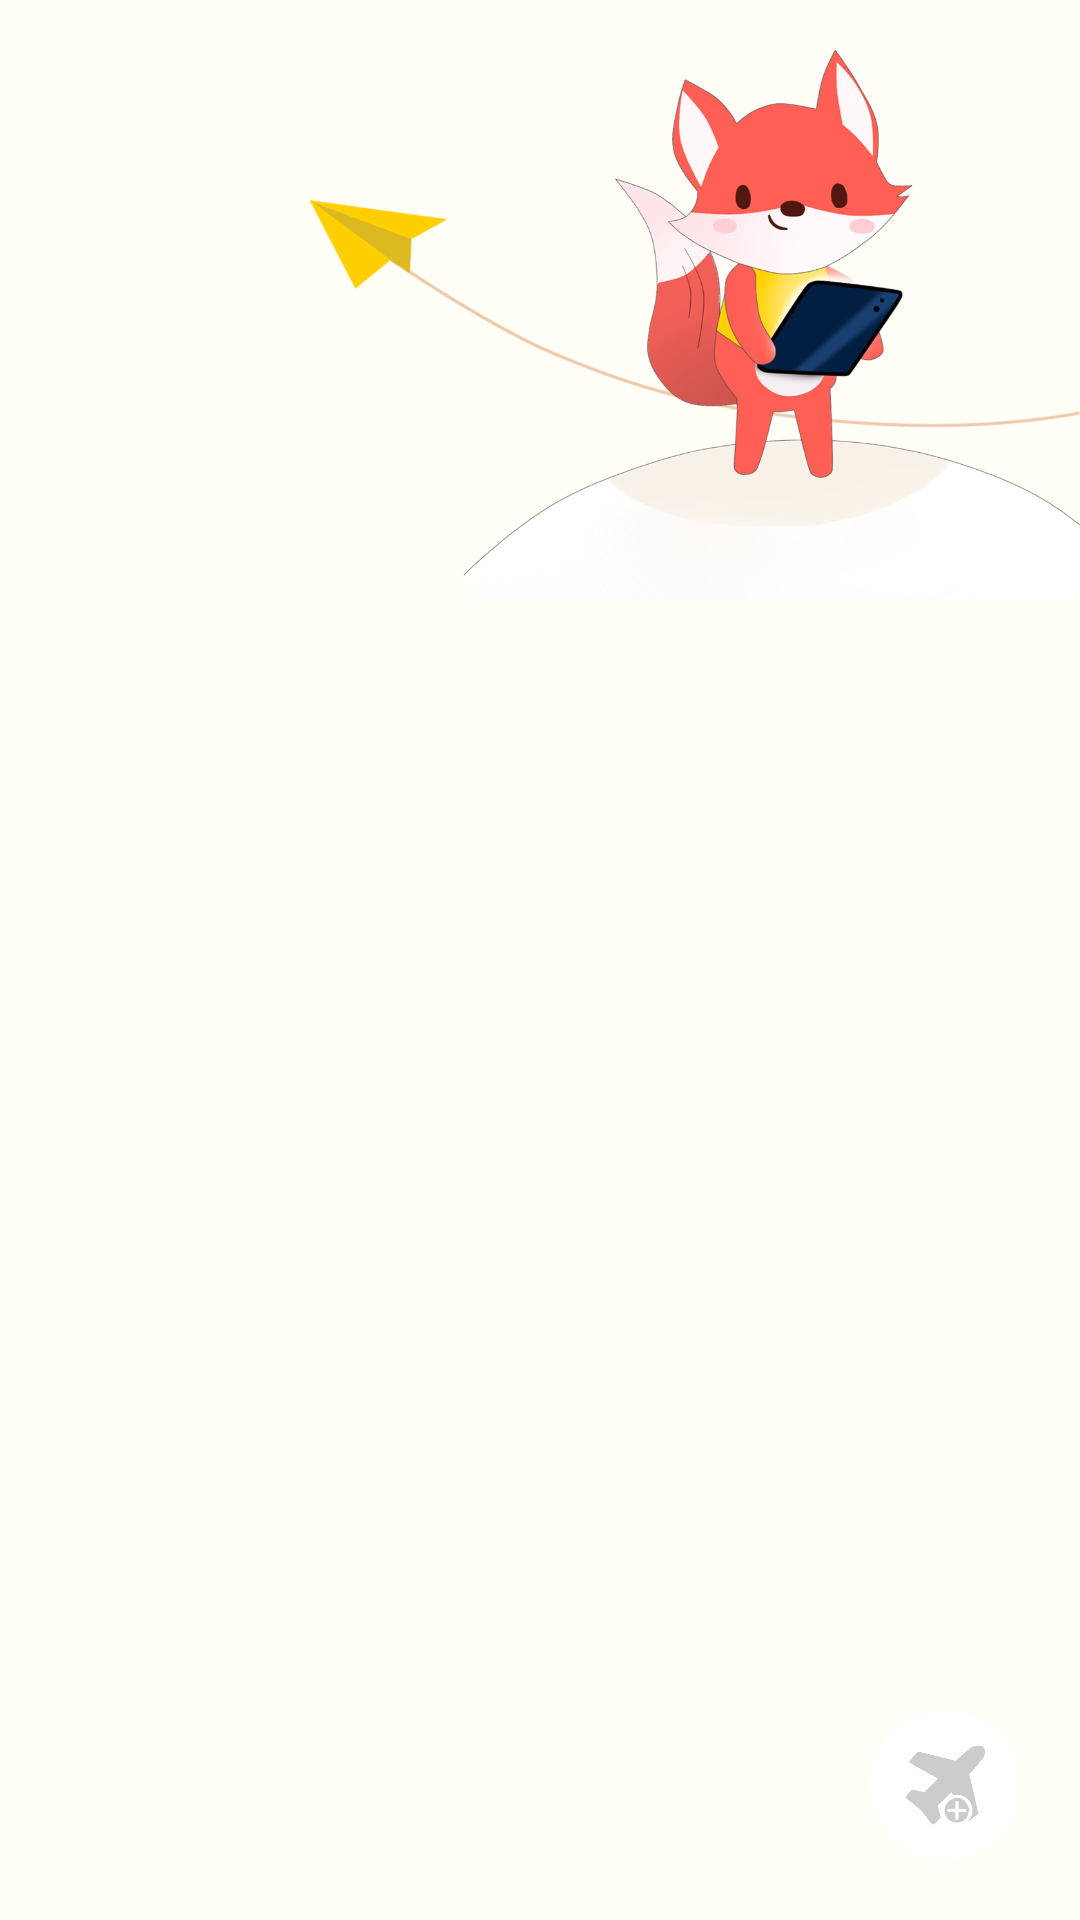

Named icons in this screenshot (1080 × 1920) and their bounding boxes, rect(x1, y1, x2, y2):
add journey floating: rect(906, 1746, 985, 1824)
